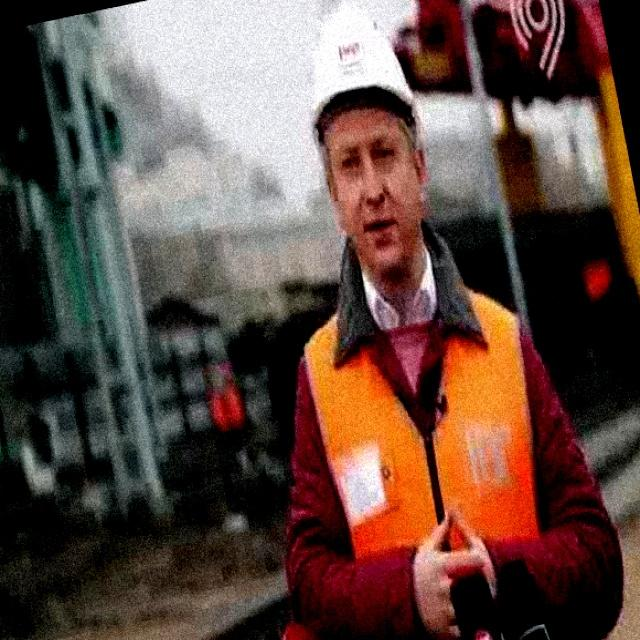helmet: (298, 12, 430, 138)
safety_vest: (284, 262, 564, 635)
